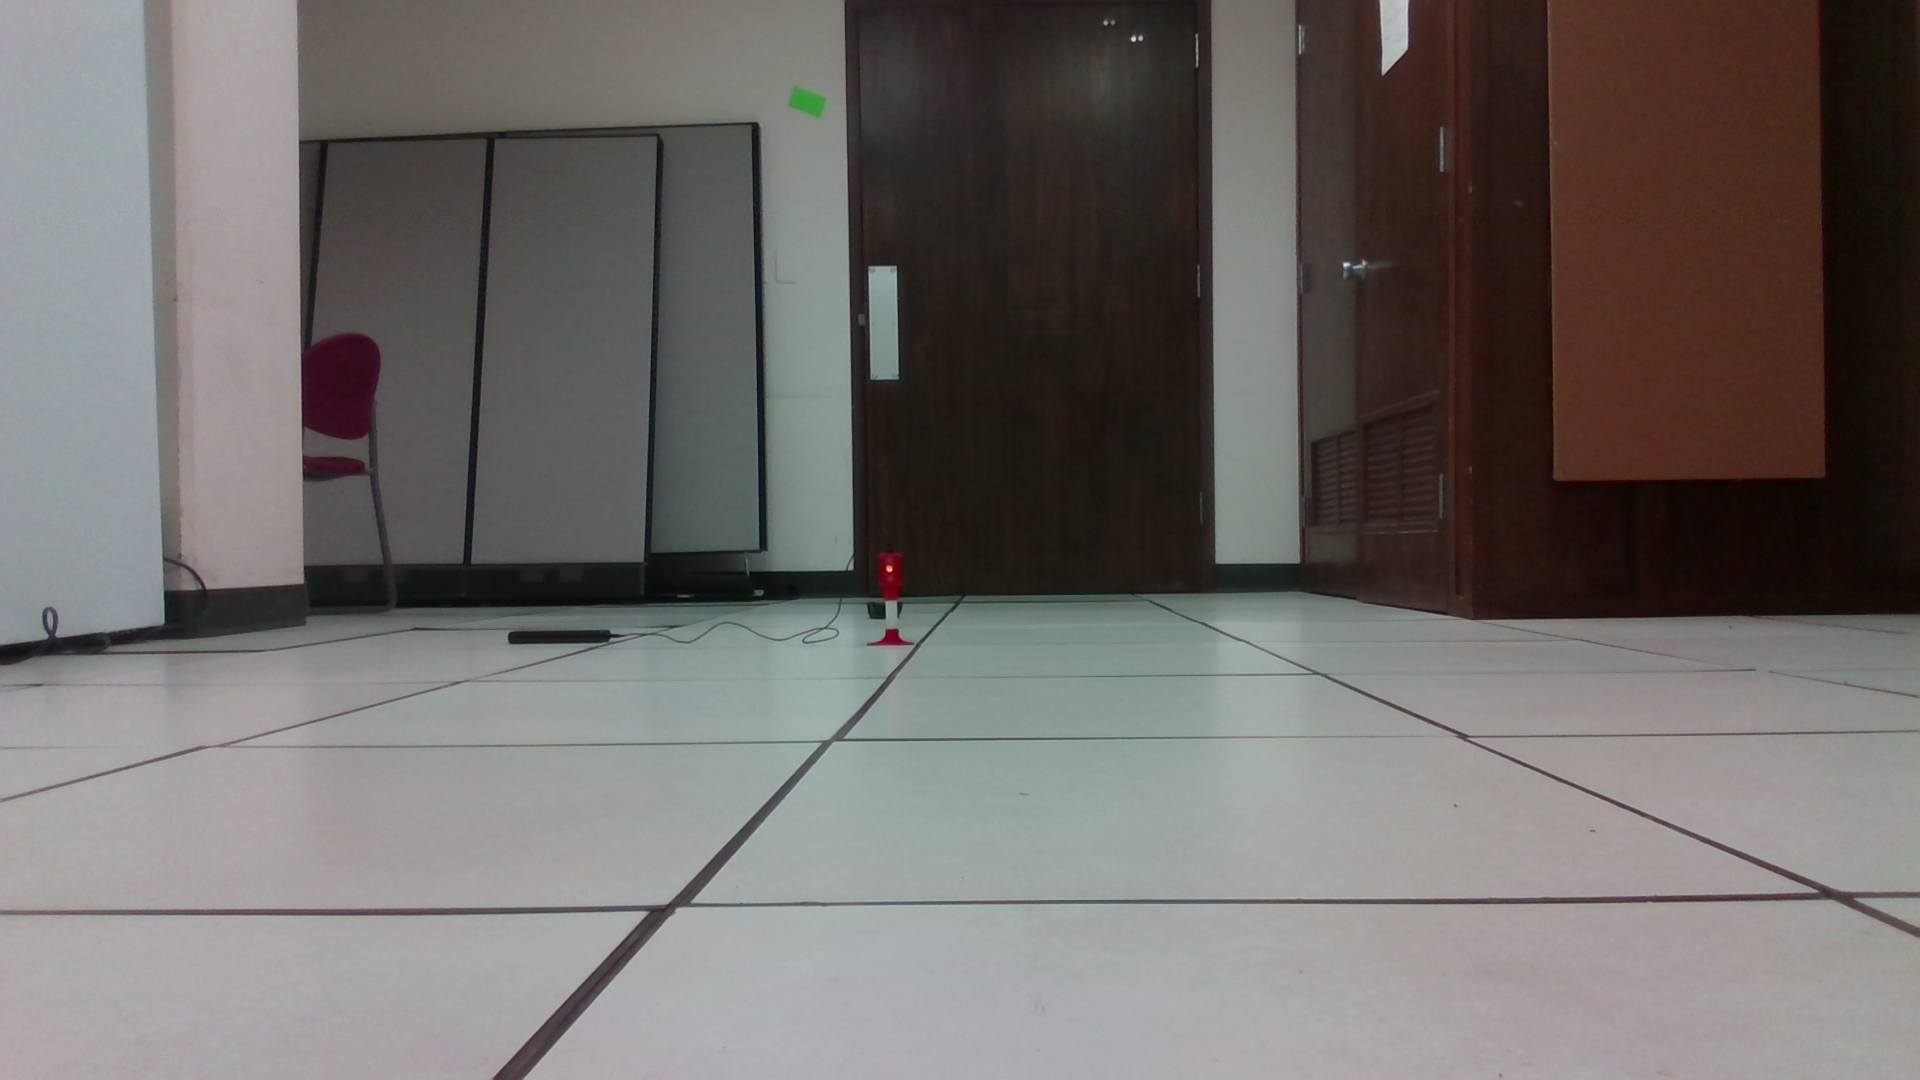stoplight: (878, 553, 905, 607)
